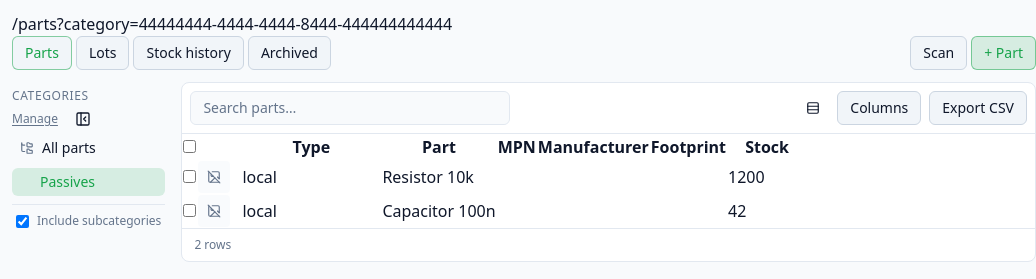
Test: parts category rail collapse › names the active filter on the collapsed strip
Click the button named "Hide categories" at (83, 119), box [66,106,100,132]
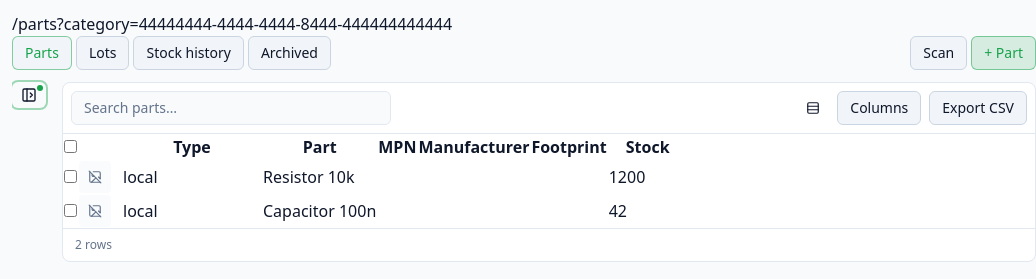
Check: the button named "Show categories (filtered by Passives)" is shown, box [12,82,46,108]
